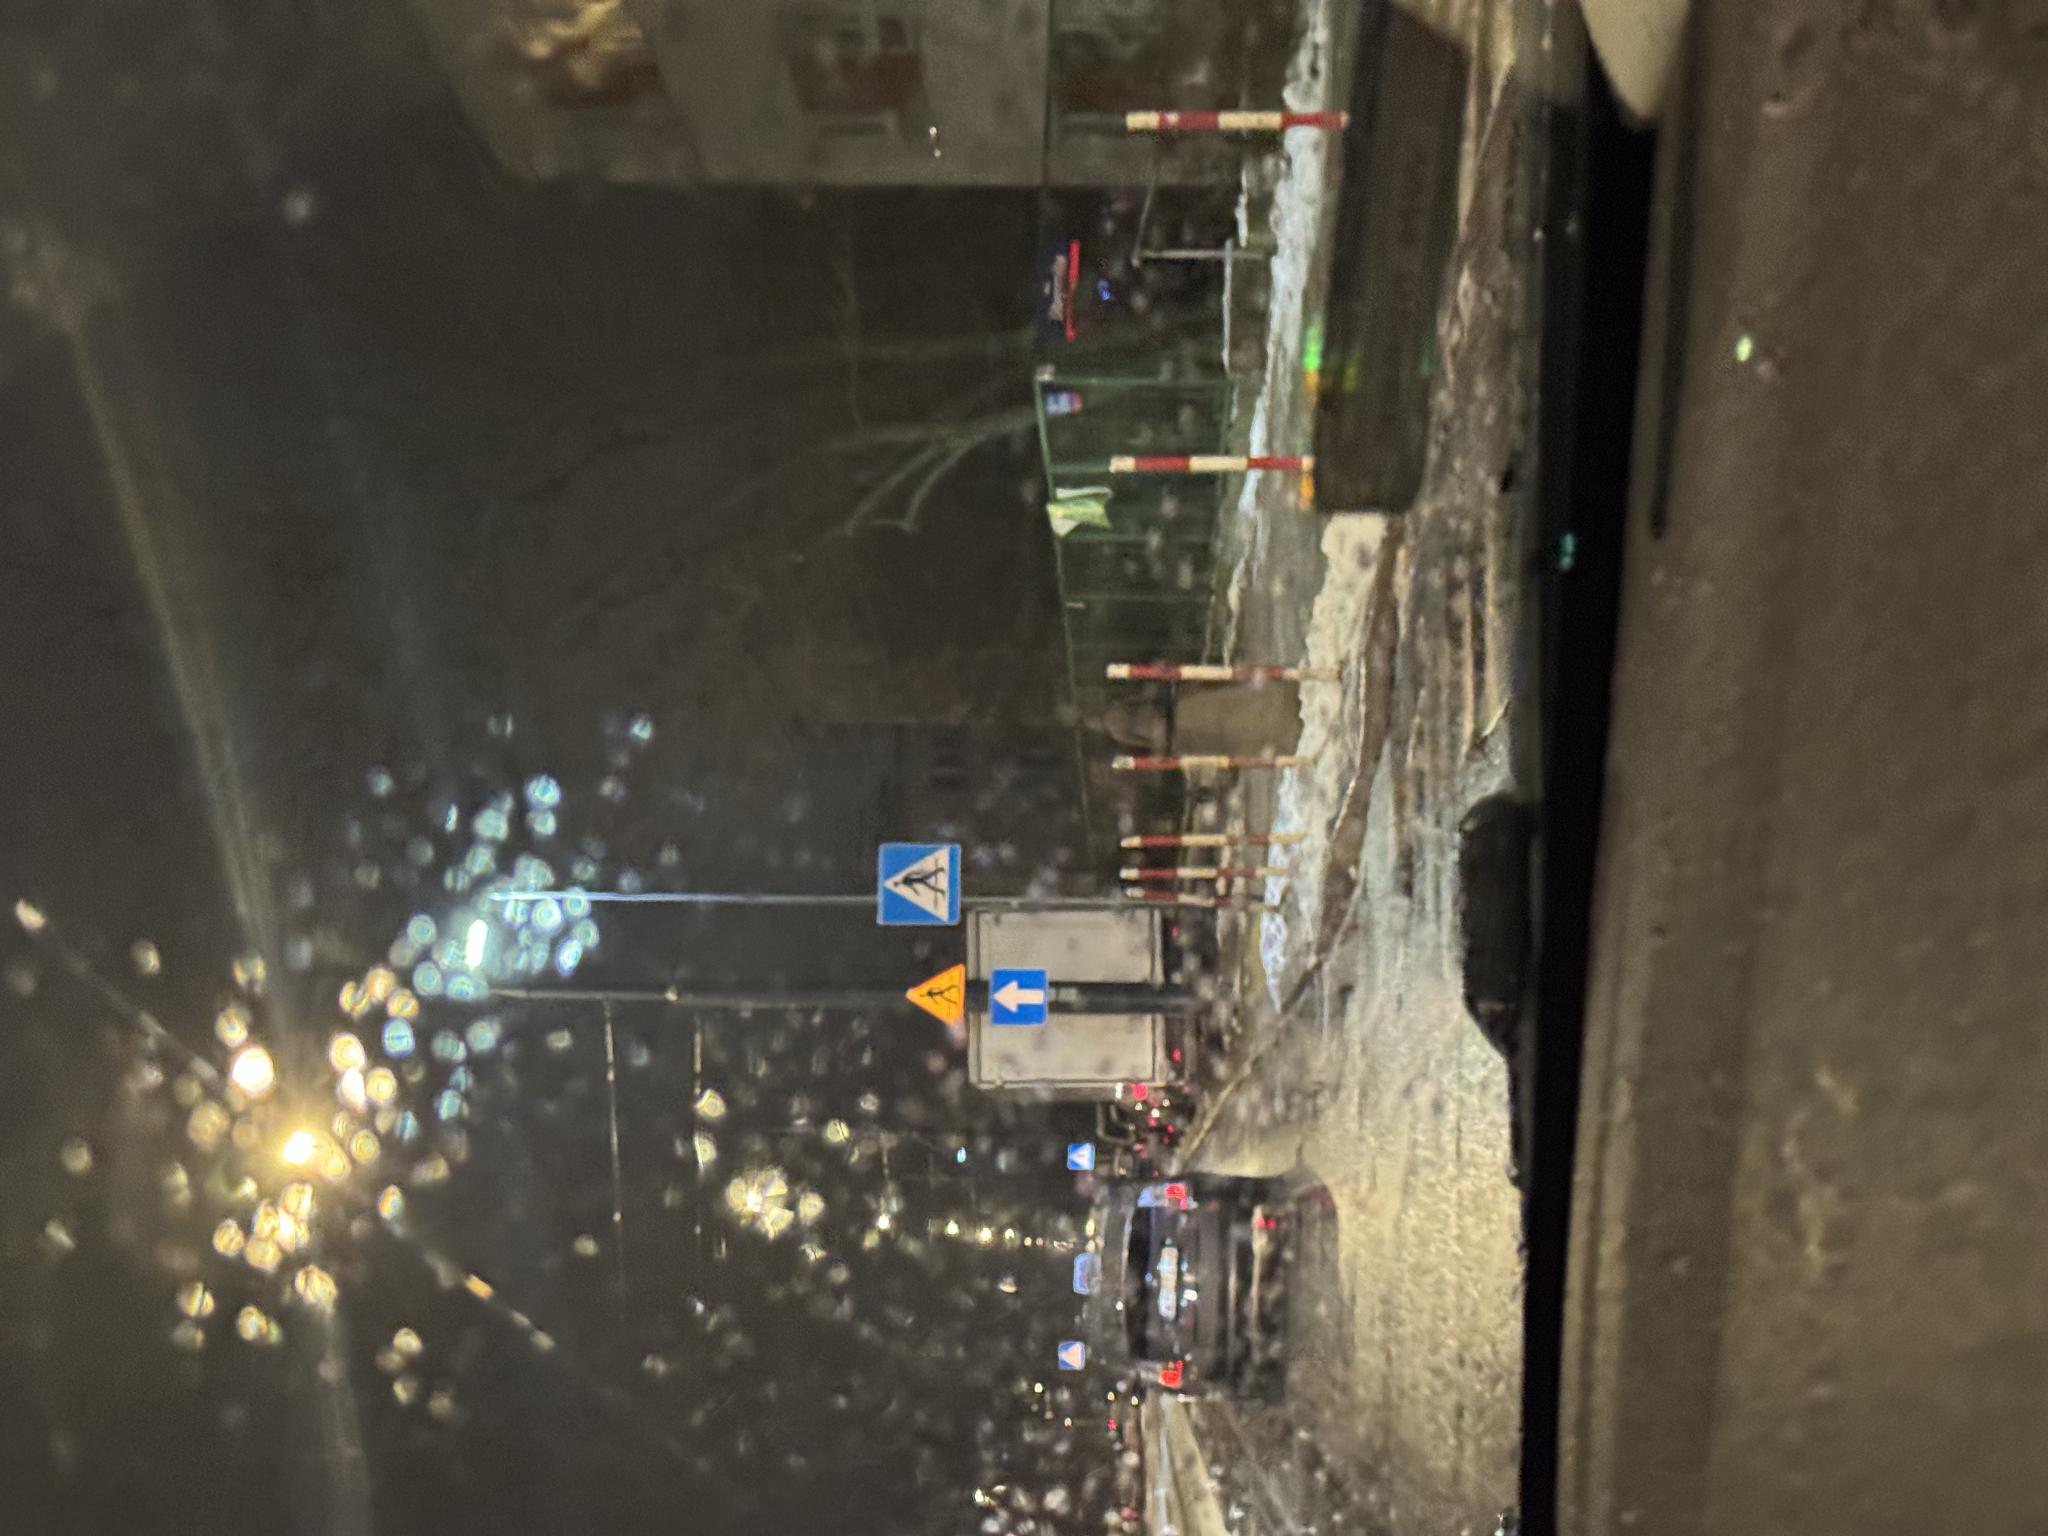information: (613, 878, 693, 962), (511, 991, 569, 1047), (168, 1057, 195, 1084), (368, 1068, 393, 1094)
warning: (508, 907, 574, 966)
